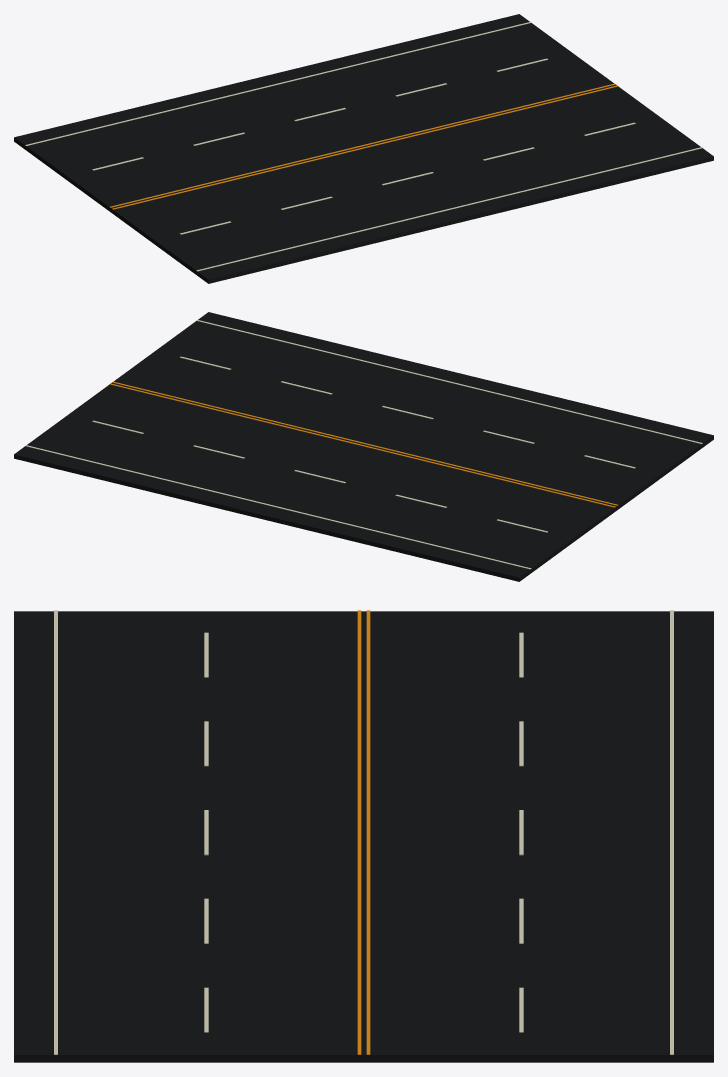
Rendered from boulevard_30m.obj.
3 views of the same model, one above another, from view 1: azimuth 30°, elevation 25°; view 2: azimuth 150°, elevation 25°; view 3: azimuth 270°, elevation 25° (orthographic). The views are drawn at different scales.
Visible parts, largest first — view 1: Asphalt, White_Paint, Yellow_Paint; view 2: Asphalt, White_Paint, Yellow_Paint; view 3: Asphalt, White_Paint, Yellow_Paint.
Boxes of the visible parts, x1,y1,x2,y2 form: Asphalt: [14, 14, 713, 283]; White_Paint: [25, 22, 702, 271]; Yellow_Paint: [109, 83, 618, 209]; Asphalt: [14, 312, 713, 581]; White_Paint: [25, 320, 702, 569]; Yellow_Paint: [109, 381, 618, 507]; Asphalt: [14, 611, 713, 1062]; White_Paint: [54, 610, 673, 1054]; Yellow_Paint: [357, 610, 370, 1054].
Size of the model in its own units: 30 by 0.2665 by 20.
